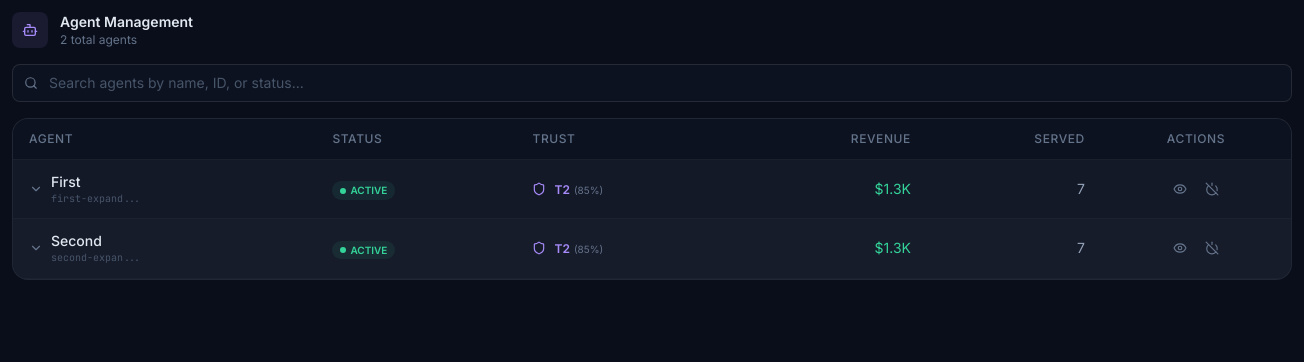
Test case: AgentManagement › collapses previously expanded row when a new row is expanded
# Expand first
Click the button without text next to "first-expand": click(36, 189) [29,182,43,196]
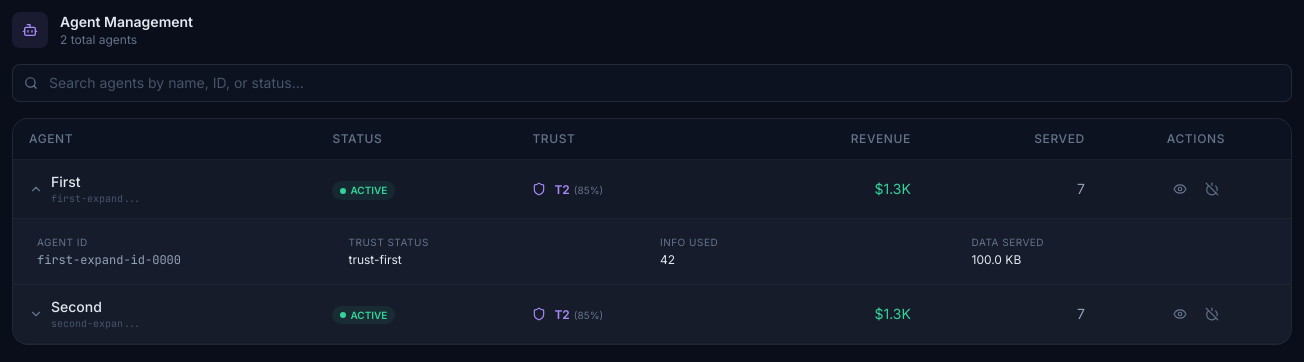
expect the text "first-expand-id-0000" is shown: met, box [37,252,181,268]
# Expand second -- first should collapse
Click the button without text next to "second-expan": click(36, 314) [29,307,43,321]
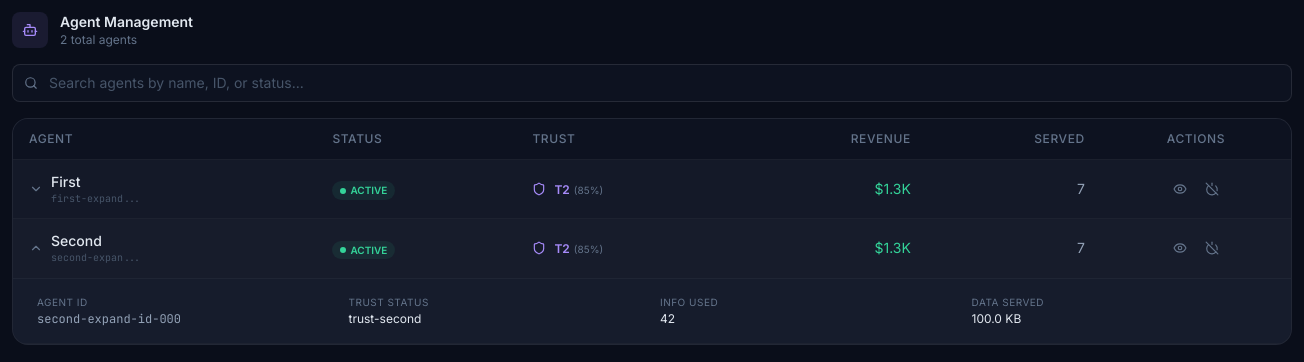
expect the text "second-expand-id-000" is shown: met, box [37,311,181,327]
expect the text "first-expand-id-0000" is gone: met
